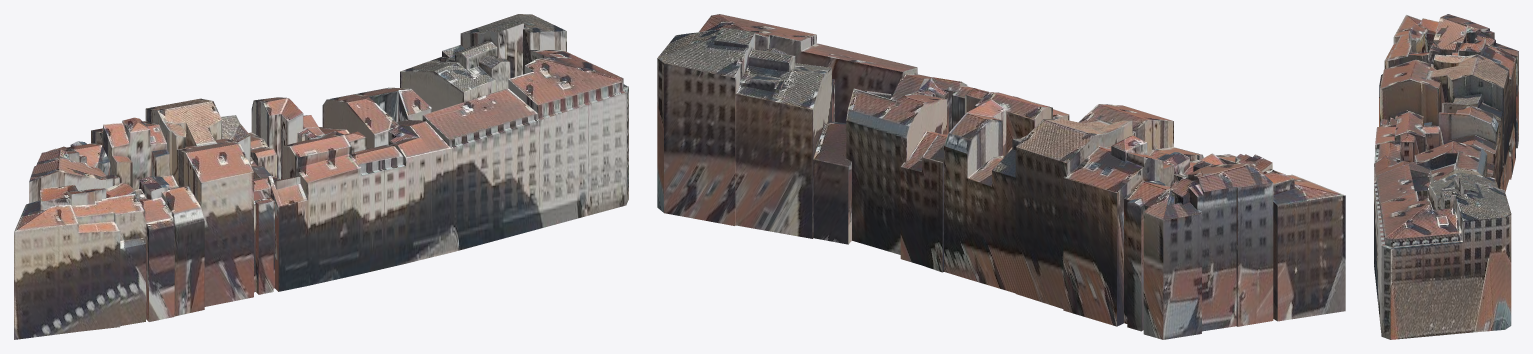
The model's file is LYON_1ER_00135.dae.
3 views of the same model, side by side, from view 1: azimuth 30°, elevation 25°; view 2: azimuth 150°, elevation 25°; view 3: azimuth 270°, elevation 25° (orthographic). The views are drawn at different scales.
Size of the model in its own units: 136 by 34.85 by 33.77.
Materials: 2 (2 with a texture image).
